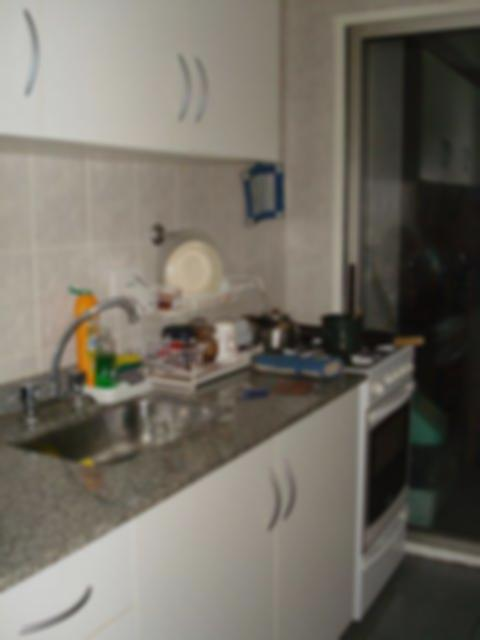Electrodomestico: (356, 345, 418, 613)
Lavaplatos: (9, 304, 244, 464)
